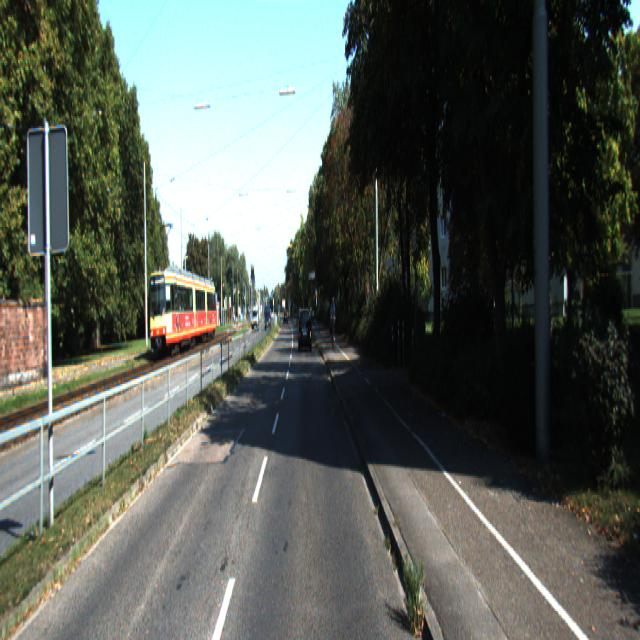Car: (149, 267, 217, 359), (298, 308, 312, 354)
